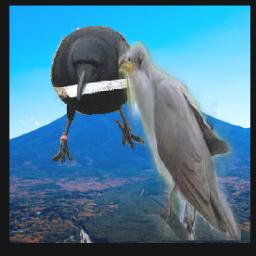Crow: (47, 25, 145, 164)
Cuckoo: (119, 42, 241, 241)
